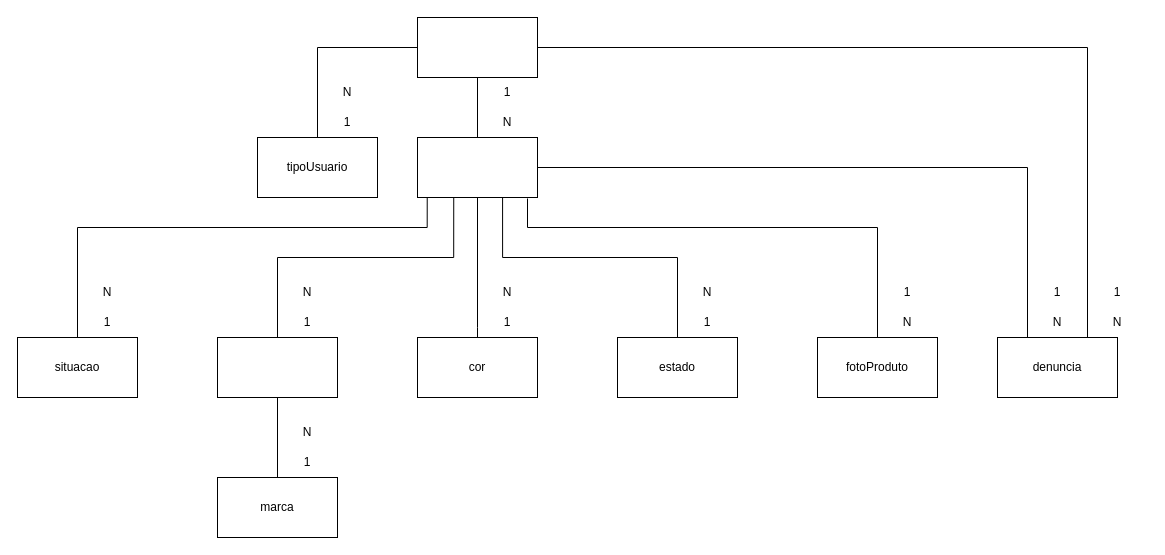
This 1165x555 diagram has some shape labels left out. Here are the shapes that lost their labels. From the top down, the centre of each, then its label:
At (x=477, y=47): "usuario".
At (x=477, y=167): "anuncio".
At (x=277, y=367): "modelo".
